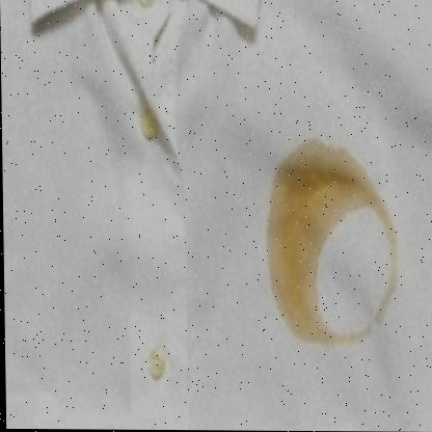coffee: (265, 224, 332, 332), (271, 152, 361, 221)
